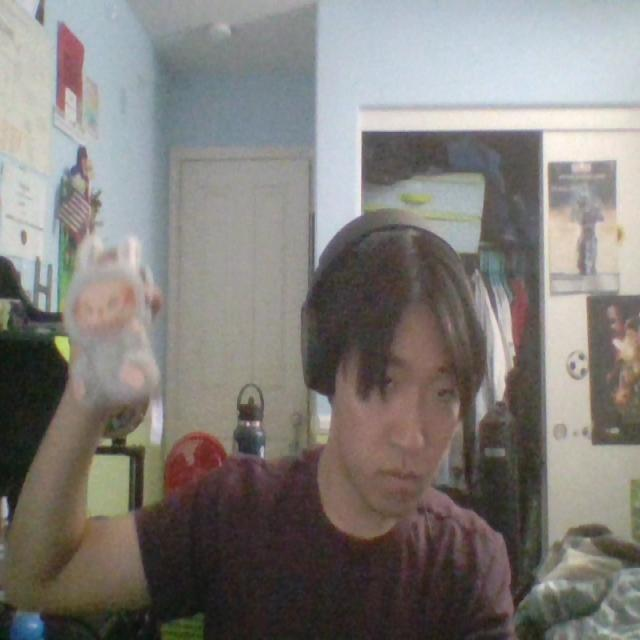labubu: (65, 239, 159, 431)
